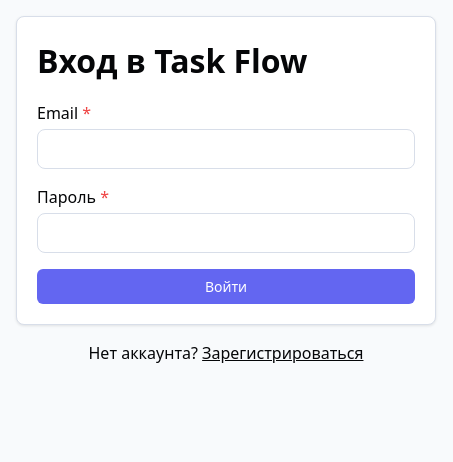
LoginPage › показывает ошибку при неудачном входе
Type "user@test.com" into the field labelled "Email *".
click(226, 149); type("user@test.com")  # box x1=37 y1=129 x2=415 y2=169
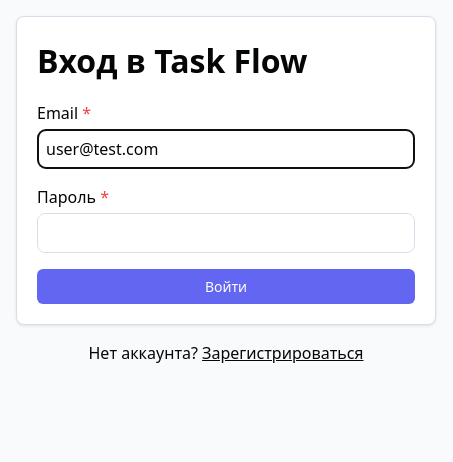
Type "wrong" into the password field labelled "Пароль *".
click(226, 233); type("wrong")  # box x1=37 y1=213 x2=415 y2=253
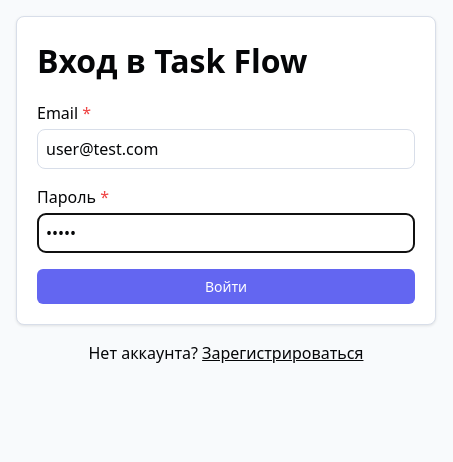
Click the button "Войти".
click(226, 286)  # box x1=37 y1=269 x2=415 y2=304
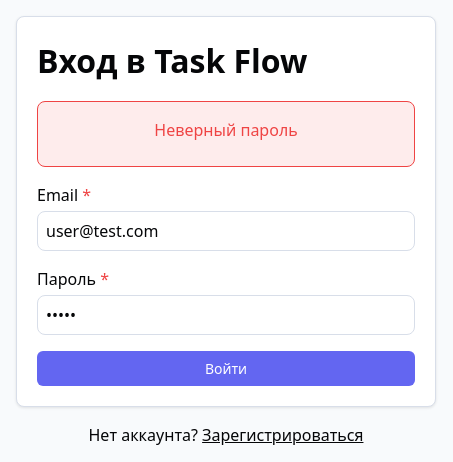
expect the text "Неверный пароль" is shown: met, box x1=154 y1=119 x2=298 y2=141
